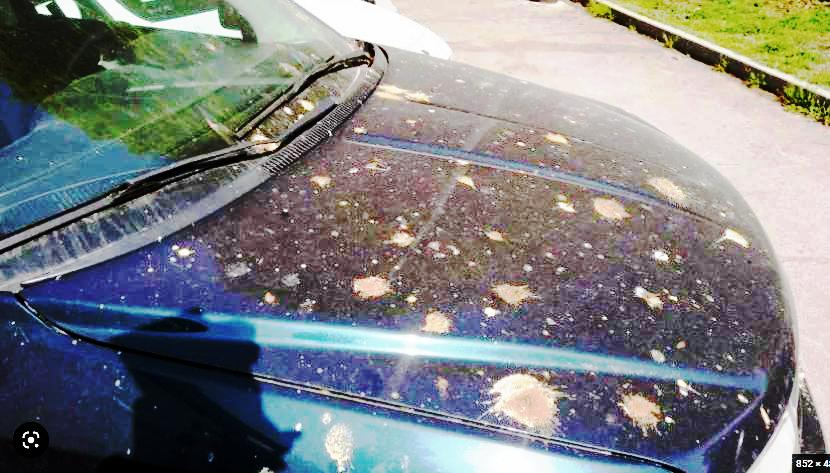Bird Poop: (490, 374, 560, 434), (325, 423, 353, 472), (623, 394, 659, 428), (246, 129, 291, 156), (648, 177, 686, 204), (376, 84, 431, 102), (354, 276, 389, 297), (594, 199, 628, 219), (496, 286, 529, 304), (422, 312, 449, 333), (635, 287, 661, 305), (721, 229, 748, 246), (562, 109, 588, 126), (225, 262, 251, 277), (391, 232, 414, 246), (558, 196, 575, 211), (281, 272, 300, 285), (365, 159, 388, 169), (457, 176, 475, 188), (678, 379, 692, 394), (760, 407, 770, 428), (311, 176, 330, 187), (546, 134, 567, 143), (299, 99, 313, 110), (436, 378, 447, 391), (321, 412, 332, 424), (484, 307, 497, 317), (486, 231, 502, 239), (652, 350, 664, 360), (449, 159, 469, 165), (654, 251, 668, 259), (178, 248, 192, 256), (265, 292, 274, 302), (448, 246, 459, 254), (429, 242, 439, 249), (355, 127, 365, 132), (350, 168, 358, 173), (236, 254, 242, 258)
